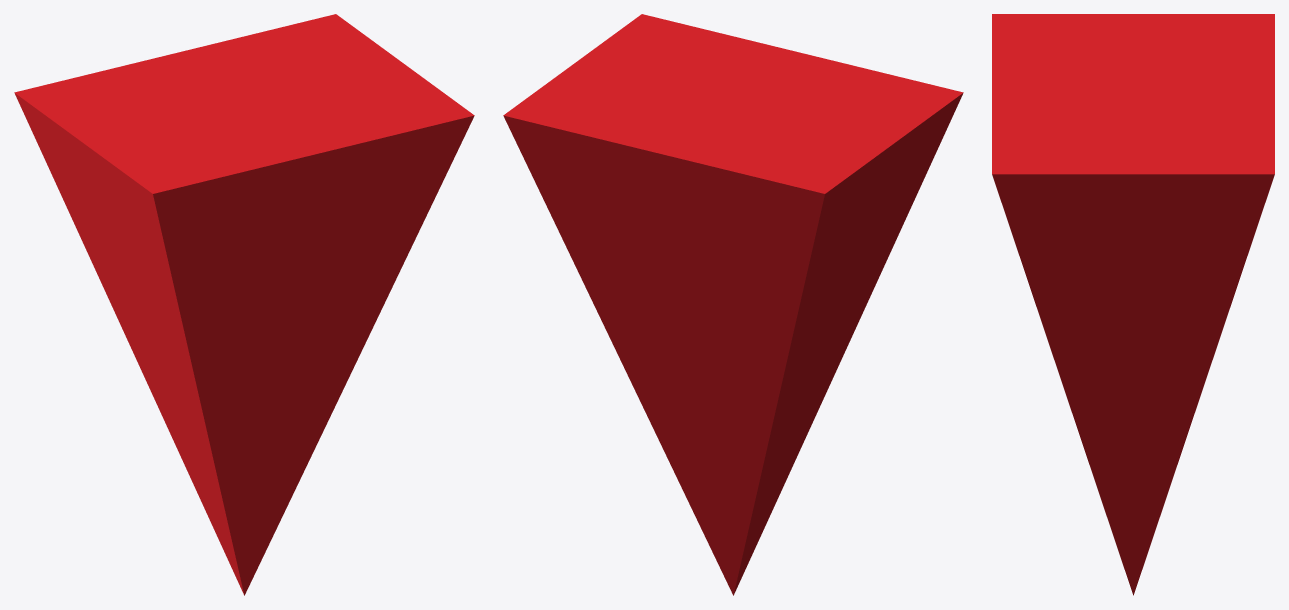
The model's file is Marker_Pyramid.fbx.
3 views of the same model, side by side, from view 1: azimuth 30°, elevation 25°; view 2: azimuth 150°, elevation 25°; view 3: azimuth 270°, elevation 25° (orthographic). The views are drawn at different scales.
Visible parts, largest first — view 1: root; view 2: root; view 3: root.
Part boxes in pixels (bbox=[...]): root: bbox=[14, 14, 474, 595]; root: bbox=[503, 14, 963, 595]; root: bbox=[992, 14, 1274, 595].
Bounding box in the file's own units: 0.2943 × 0.4299 × 0.2197.
